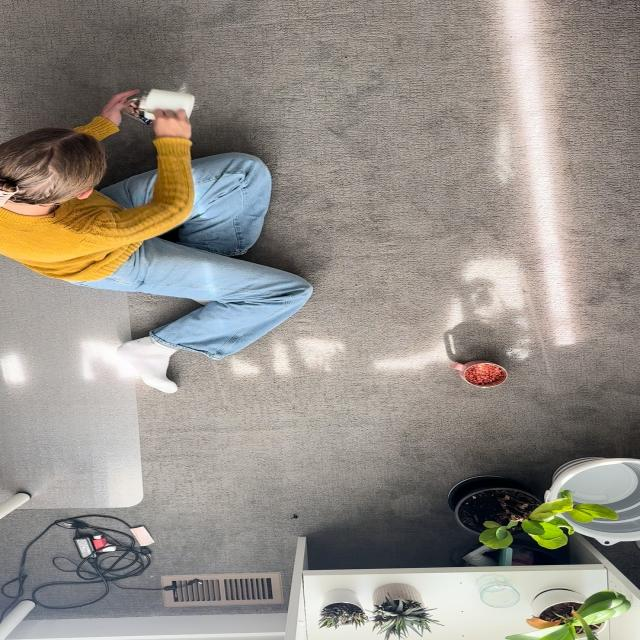IBC: (127, 89, 194, 123), (450, 360, 507, 388)
